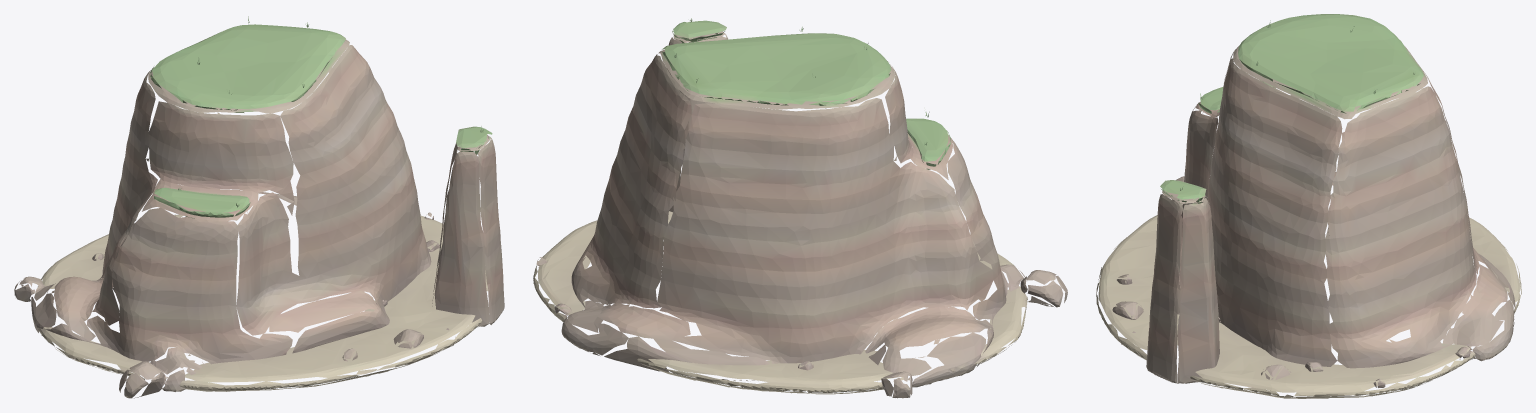
Rendered from MesaTerrain.glb.
3 views of the same model, side by side, from view 1: azimuth 30°, elevation 25°; view 2: azimuth 150°, elevation 25°; view 3: azimuth 270°, elevation 25° (orthographic). The views are drawn at different scales.
Visible parts, largest first — view 1: geometry_0; view 2: geometry_0; view 3: geometry_0.
Boxes of the visible parts, <box> form: geometry_0: <box>14,16,504,398</box>; geometry_0: <box>533,18,1067,398</box>; geometry_0: <box>1096,14,1521,398</box>.
Size of the model in its own units: 9.98 by 5.59 by 8.54.
